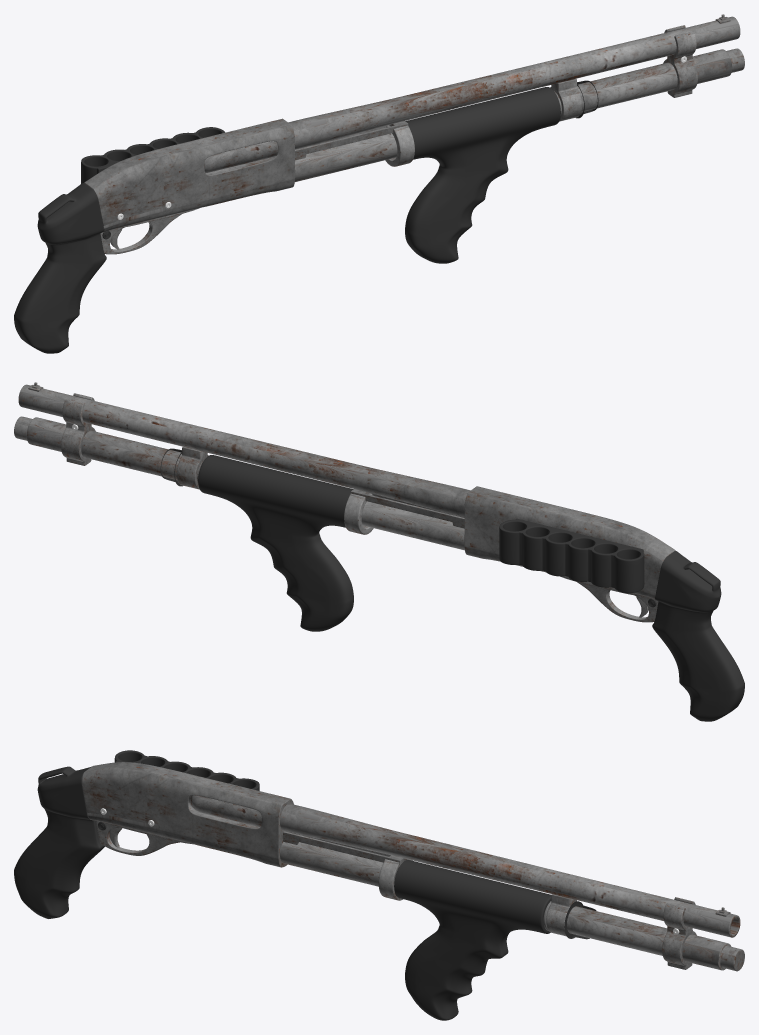
The model's file is ShotgunParts.gltf.
3 renders of one model, top to bottom at view 1: azimuth 30°, elevation 25°; view 2: azimuth 150°, elevation 25°; view 3: azimuth 330°, elevation 25°, orthographic.
Parts seen in each view (by area): view 1: ShotgunBody, ShotgunPump; view 2: ShotgunBody, ShotgunPump; view 3: ShotgunBody, ShotgunPump.
Boxes of the visible parts, bbox=[...] form: ShotgunBody: bbox=[14, 14, 744, 353]; ShotgunPump: bbox=[385, 87, 561, 263]; ShotgunBody: bbox=[14, 382, 744, 721]; ShotgunPump: bbox=[197, 455, 373, 631]; ShotgunBody: bbox=[14, 750, 744, 971]; ShotgunPump: bbox=[378, 859, 551, 1020].
Bounding box in the file's own units: 1 × 0.2367 × 0.0853.
Materials: 5 (3 with a texture image).
